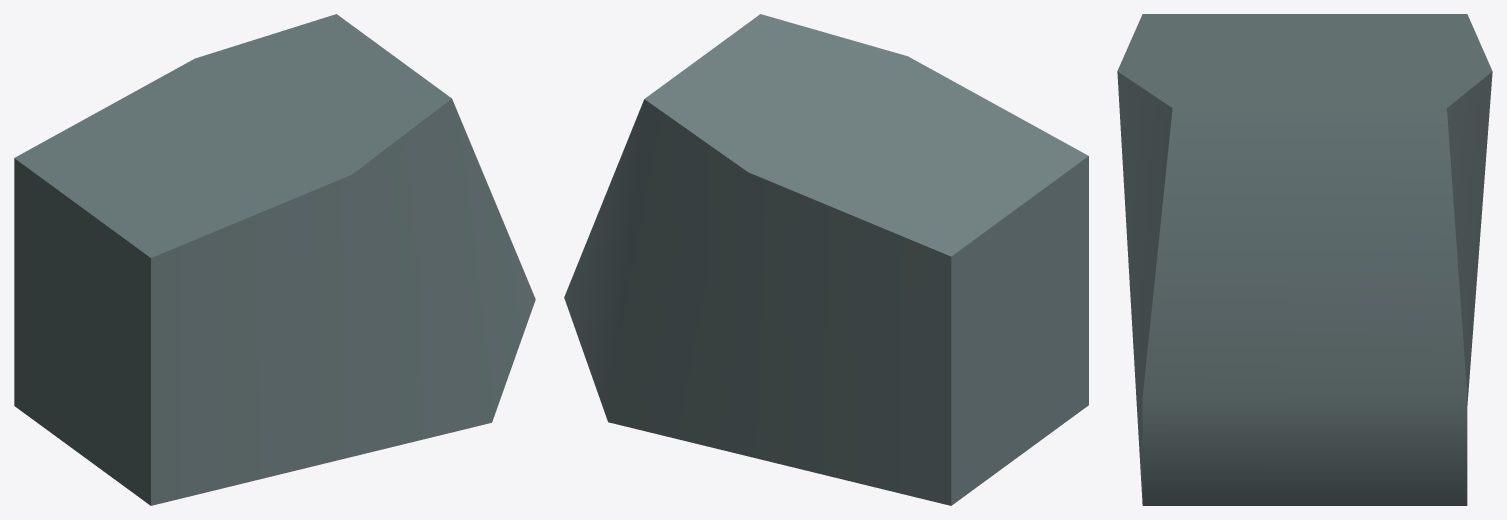
Rendered from floor2.fbx.
3 views of the same model, side by side, from view 1: azimuth 30°, elevation 25°; view 2: azimuth 150°, elevation 25°; view 3: azimuth 270°, elevation 25° (orthographic). The views are drawn at different scales.
Parts seen in each view (by area): view 1: pCube1; view 2: pCube1; view 3: pCube1.
Part boxes in pixels (left/top/right/bottom): pCube1: left=14, top=14, right=535, bottom=505; pCube1: left=564, top=14, right=1088, bottom=505; pCube1: left=1117, top=14, right=1492, bottom=505.
Bounding box in the file's own units: 1.62 × 1.3 × 1.16.
